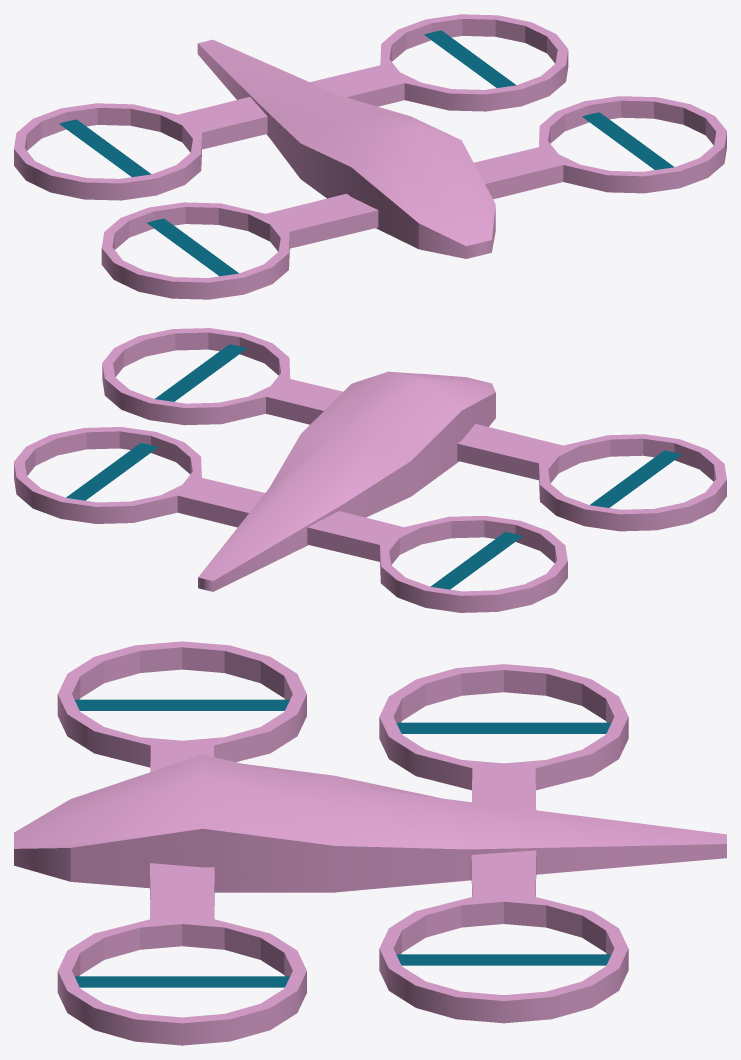
The model's file is drone.obj.
3 renders of one model, top to bottom at view 1: azimuth 30°, elevation 25°; view 2: azimuth 150°, elevation 25°; view 3: azimuth 270°, elevation 25°, orthographic. The views are drawn at different scales.
Parts seen in each view (by area): view 1: Drone, helice1, helice3, helice2, helice4; view 2: Drone, helice4, helice3, helice2, helice1; view 3: Drone, helice2, helice1, helice4, helice3.
Part boxes in pixels (bbox=[...]): Drone: bbox=[14, 14, 726, 299]; helice1: bbox=[582, 112, 674, 169]; helice3: bbox=[424, 30, 516, 87]; helice2: bbox=[147, 218, 238, 276]; helice4: bbox=[59, 119, 151, 176]; Drone: bbox=[14, 328, 726, 612]; helice4: bbox=[430, 532, 522, 589]; helice3: bbox=[66, 443, 158, 500]; helice2: bbox=[590, 450, 681, 507]; helice1: bbox=[155, 344, 246, 401]; Drone: bbox=[14, 641, 726, 1045]; helice2: bbox=[75, 699, 289, 710]; helice1: bbox=[74, 976, 289, 987]; helice4: bbox=[396, 722, 611, 733]; helice3: bbox=[396, 954, 611, 965].
Size of the model in its own units: 225 by 31.37 by 177.
